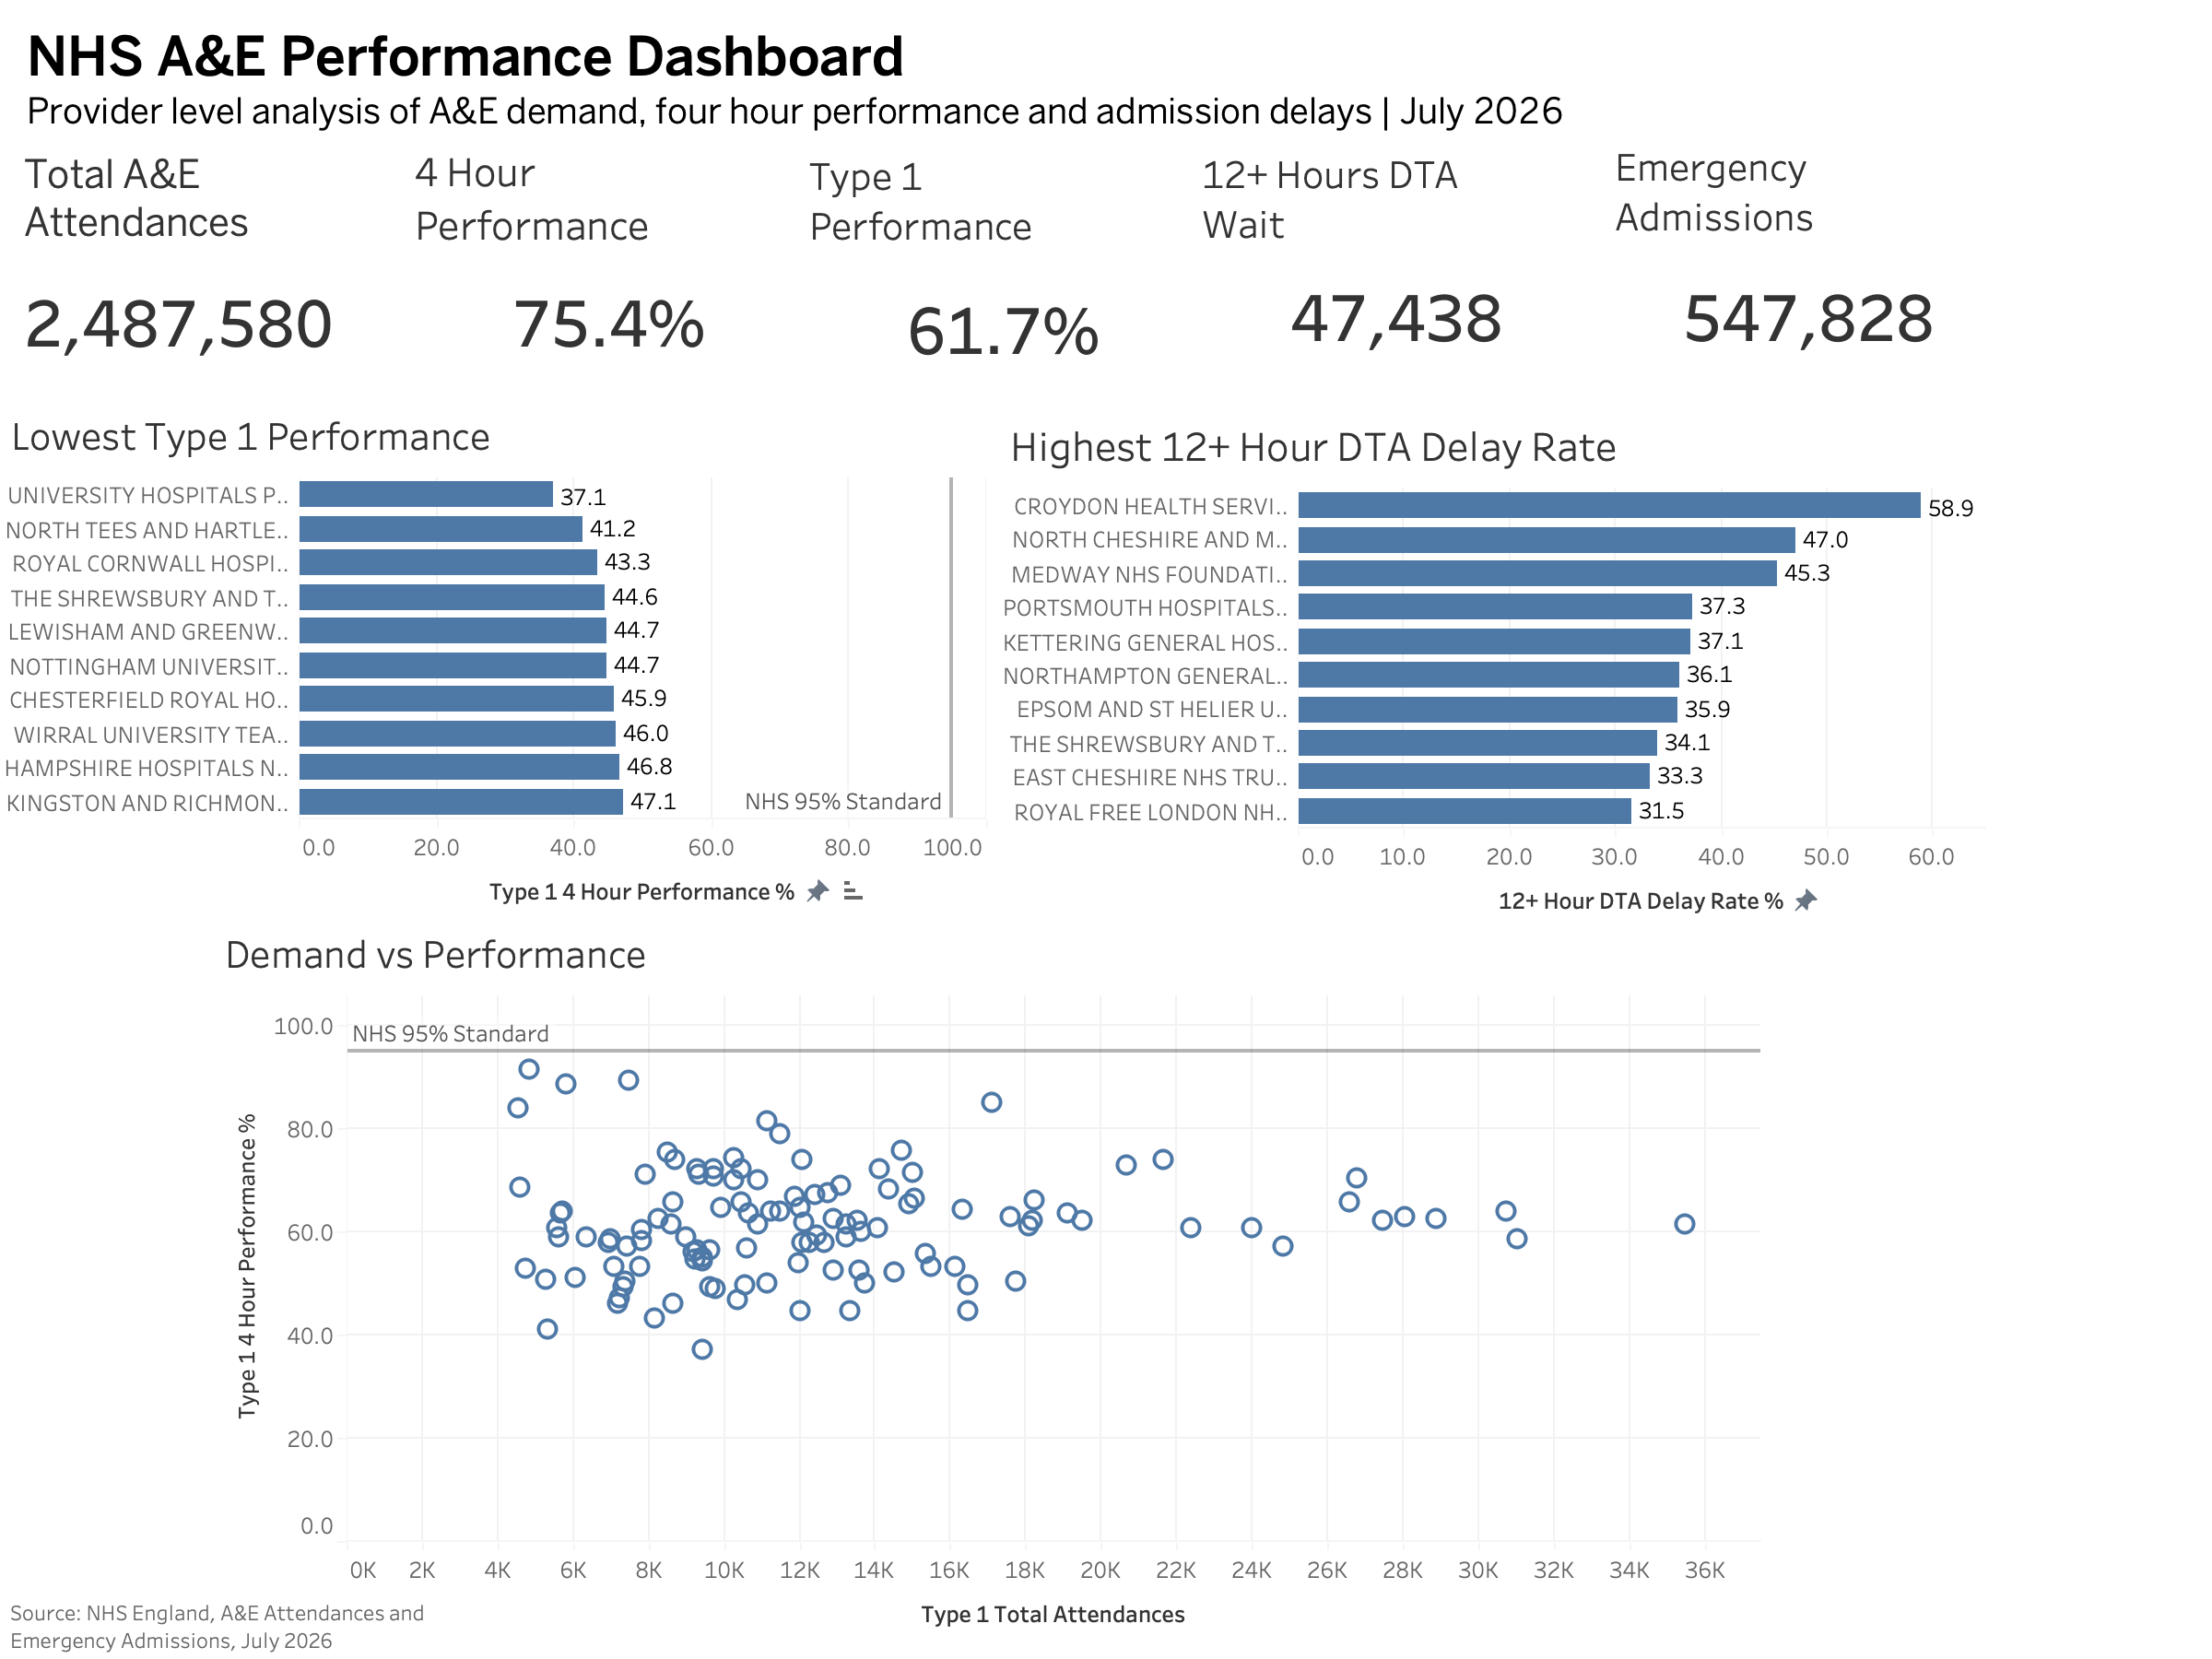

The page's visual inventory and layout, read from the dashboard file:
{"tool":"tableau","page":{"name":"Dashboard 1","canvas":[1200,900],"ordinal":0},"visuals":[{"type":"title","box":[8,8,1184,70]},{"type":"worksheet","title":"Emergency Admissions","mark":"Automatic","box":[872,70,220,131]},{"type":"worksheet","title":"4 Hour Performance","mark":"Automatic","box":[221,72,220,131]},{"type":"worksheet","title":"12+ Hour DTA Waits","mark":"Automatic","box":[648,74,220,123]},{"type":"worksheet","title":"Type 1 Performance","mark":"Automatic","box":[435,75,220,135]},{"type":"worksheet","title":"Total A&E Attendances","mark":"Automatic","box":[9,77,202,128]},{"type":"worksheet","title":"Lowest Type 1 Performance","mark":"Bar","rows":["Org name"],"cols":["Type 1 4 Hour Performance %"],"box":[2,216,533,283]},{"type":"worksheet","title":"Highest 12+ Hour DTA Delay Rate ","mark":"Automatic","rows":["Org name"],"cols":["12+ Hour DTA Delay Rate %"],"box":[544,221,533,283]},{"type":"worksheet","title":"Demand vs Performance","mark":"Automatic","rows":["Type 1 4 Hour Performance %"],"cols":["Type 1 Total Attendances"],"box":[118,497,838,394]},{"type":"text","box":[3,866,238,34]}]}

Visuals, with their boxes in screenshot pixels (x1, y1, x2, y2), scaled from the page's 1200x900 canvas onto the 2212x1659 screenshot:
title: (left=15, top=15, right=2197, bottom=144)
"Emergency Admissions" worksheet: (left=1607, top=129, right=2013, bottom=371)
"4 Hour Performance" worksheet: (left=407, top=133, right=813, bottom=374)
"12+ Hour DTA Waits" worksheet: (left=1194, top=136, right=1600, bottom=363)
"Type 1 Performance" worksheet: (left=802, top=138, right=1207, bottom=387)
"Total A&E Attendances" worksheet: (left=17, top=142, right=389, bottom=378)
"Lowest Type 1 Performance" worksheet (Bar marks): (left=4, top=398, right=986, bottom=920)
"Highest 12+ Hour DTA Delay Rate " worksheet: (left=1003, top=407, right=1985, bottom=929)
"Demand vs Performance" worksheet: (left=218, top=916, right=1762, bottom=1642)
text: (left=6, top=1596, right=444, bottom=1658)
